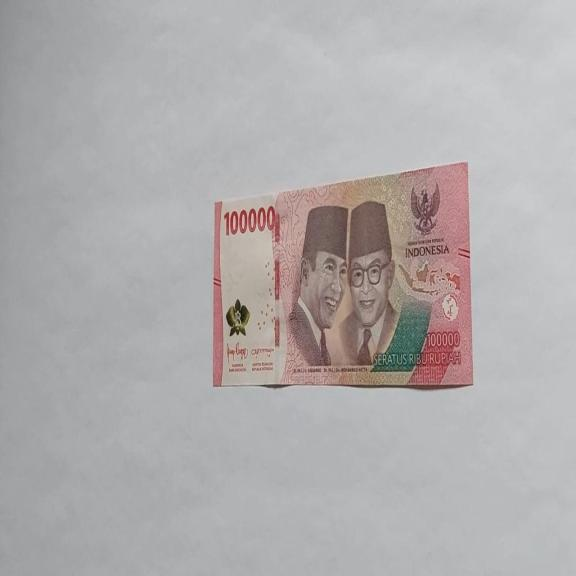Kertas: (212, 160, 473, 389), (223, 203, 276, 236)
